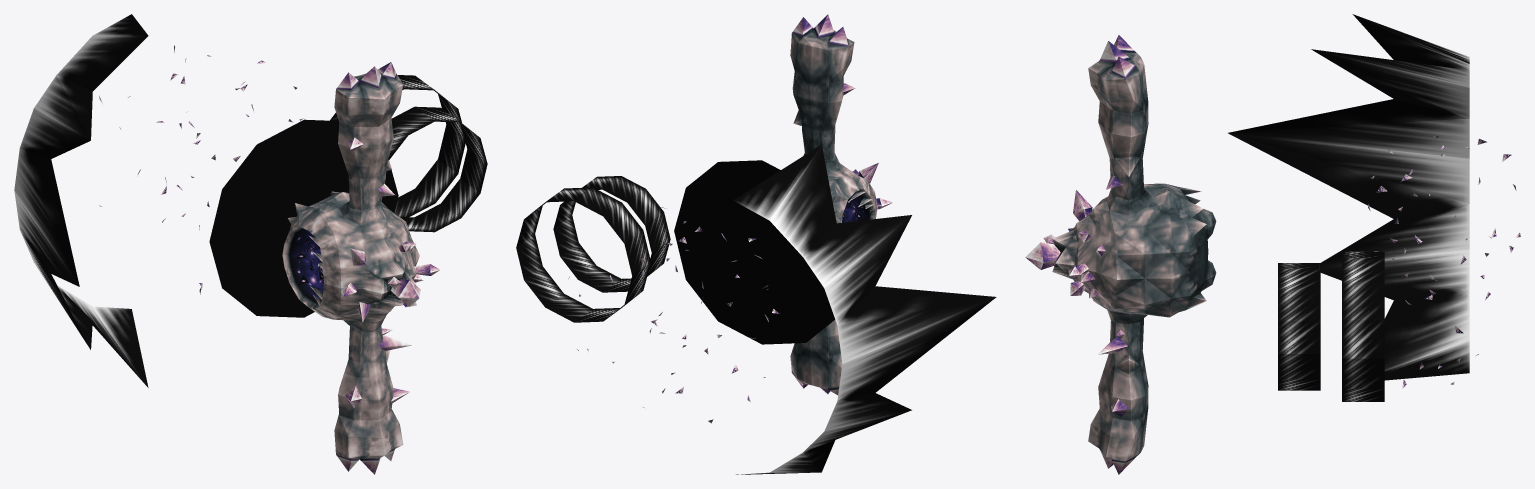
3 views of the same model, side by side, from view 1: azimuth 30°, elevation 25°; view 2: azimuth 150°, elevation 25°; view 3: azimuth 270°, elevation 25° (orthographic). The views are drawn at different scales.
Visible parts, largest first — view 1: M_0044_1, M_0044_0; view 2: M_0044_0, M_0044_1; view 3: M_0044_0, M_0044_1.
Boxes of the visible parts, bbox=[...] form: M_0044_1: bbox=[99, 45, 439, 474]; M_0044_0: bbox=[14, 14, 487, 387]; M_0044_0: bbox=[516, 144, 996, 474]; M_0044_1: bbox=[568, 14, 892, 423]; M_0044_0: bbox=[1228, 14, 1469, 401]; M_0044_1: bbox=[1025, 35, 1520, 474].
Size of the model in its own units: 22.55 by 19.95 by 20.93.
2 materials, 2 textured.
